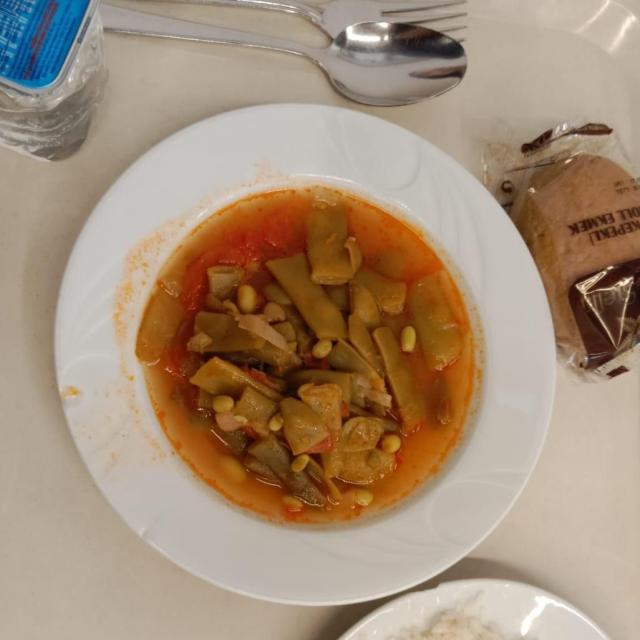ana_yemek: (136, 181, 480, 527)
